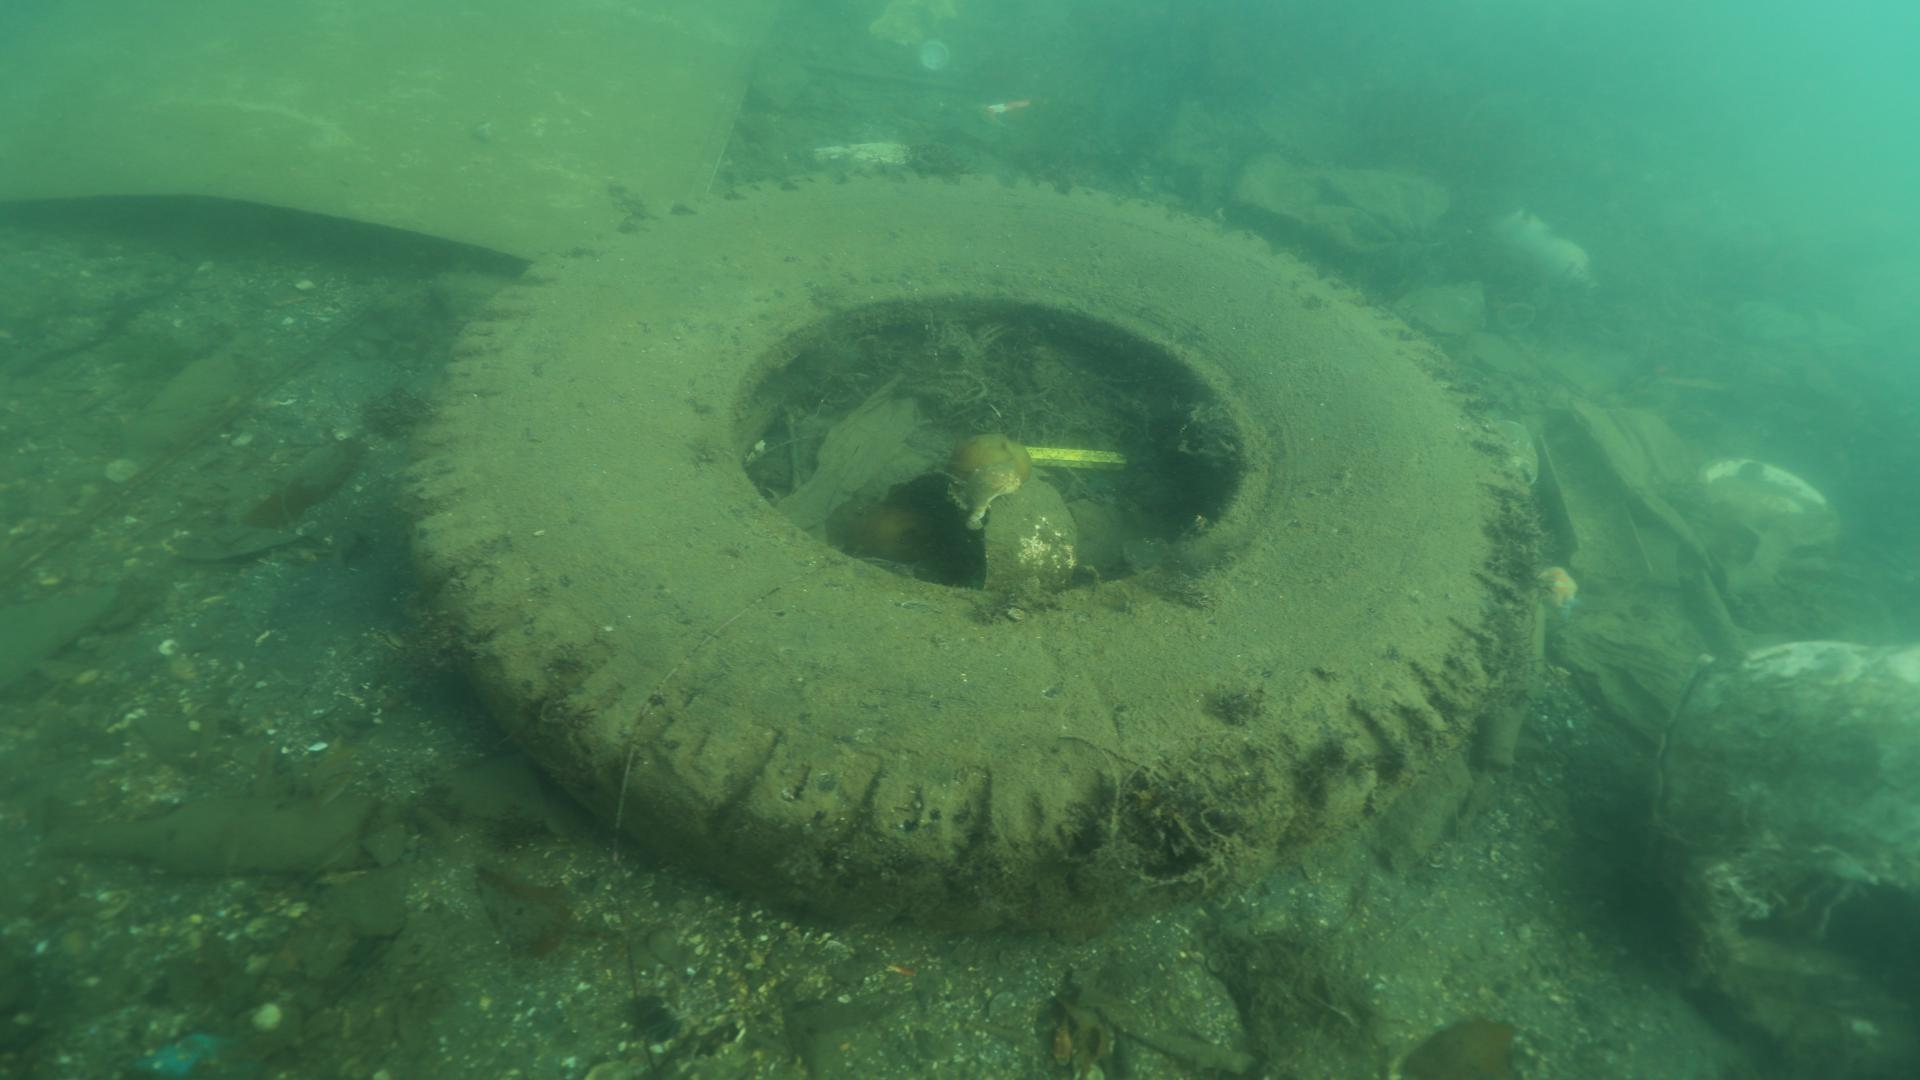tire: (400, 164, 1543, 934)
